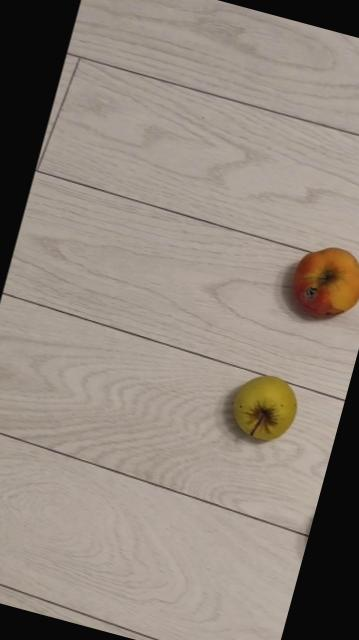apple_green: (225, 366, 304, 445)
apple_red: (283, 237, 359, 325)
